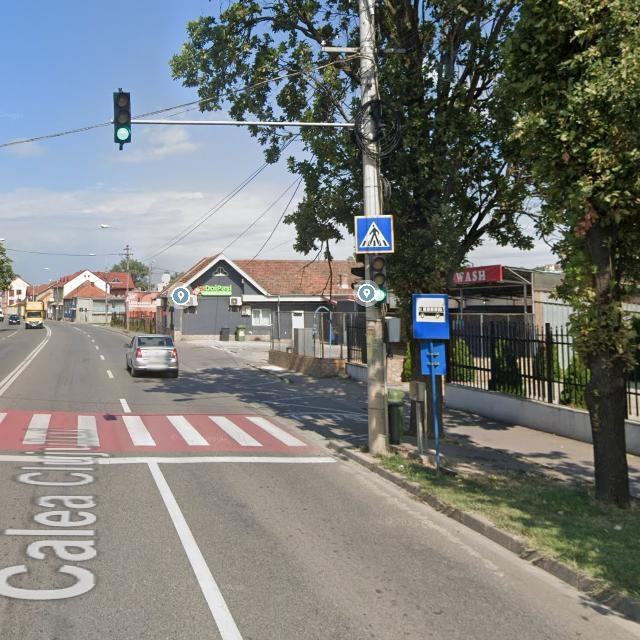info_crosswalk: (354, 215, 394, 254)
